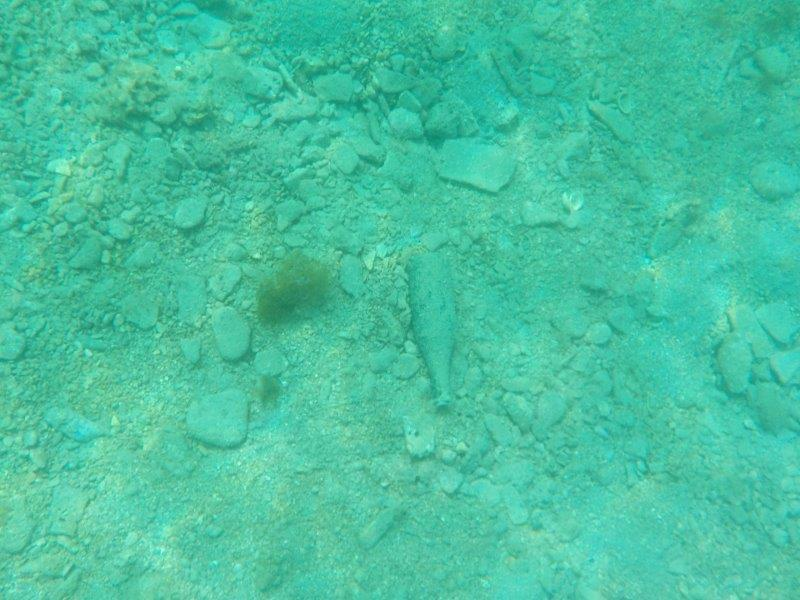bottle: (402, 243, 465, 411)
